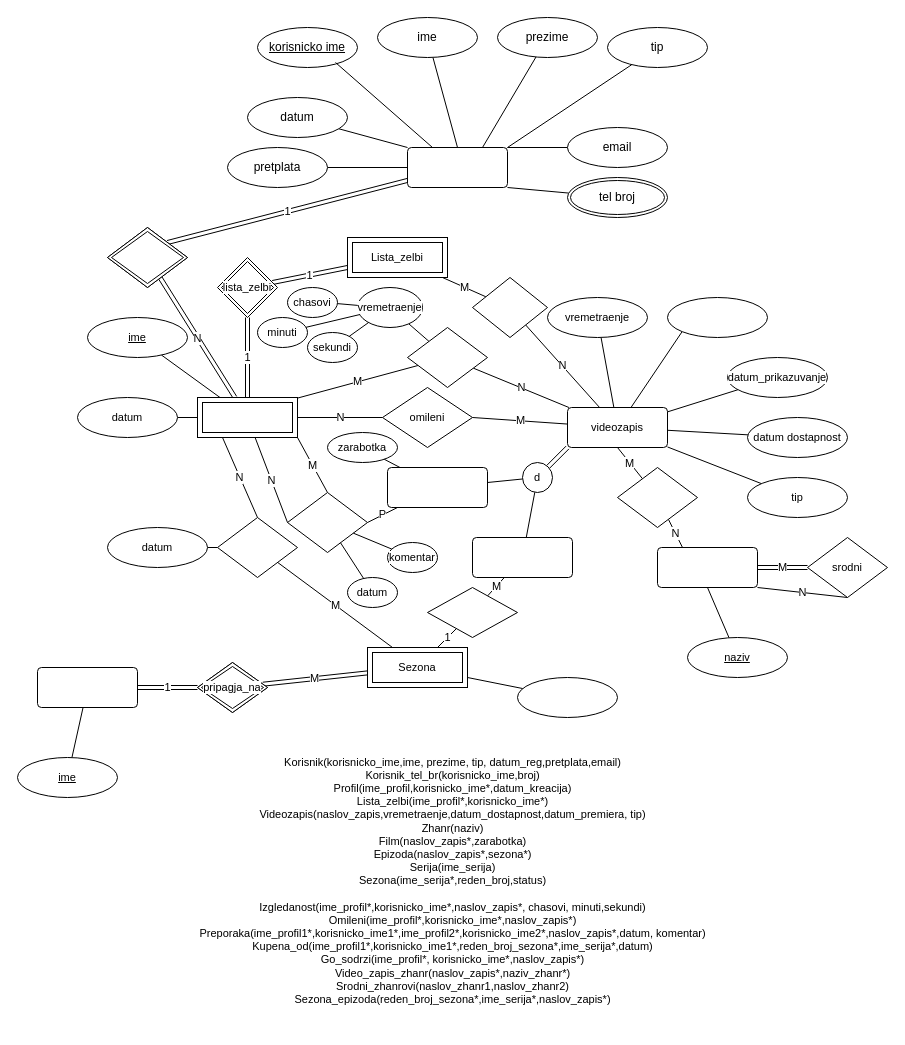
Some shapes in this 905 by 1045 pixel diagram are drawn without their labels. Here are the shapes that lost their labels. From the top down, the box of each, then its label:
(406, 146, 508, 188): Korisnik
(106, 226, 188, 288): e_sopstvenik_na
(472, 276, 548, 338): go_sodrzi
(666, 296, 768, 338): naslov
(406, 326, 488, 388): izgledanost
(196, 396, 298, 438): Profil
(386, 466, 488, 508): film
(616, 466, 698, 528): e_od
(286, 492, 368, 552): preporaka
(216, 516, 298, 578): kupena_od
(472, 536, 572, 578): epizoda
(656, 546, 758, 588): Zhanr
(426, 586, 518, 638): sostavena_od
(36, 666, 138, 708): Serija
(516, 676, 618, 718): reden_broj
